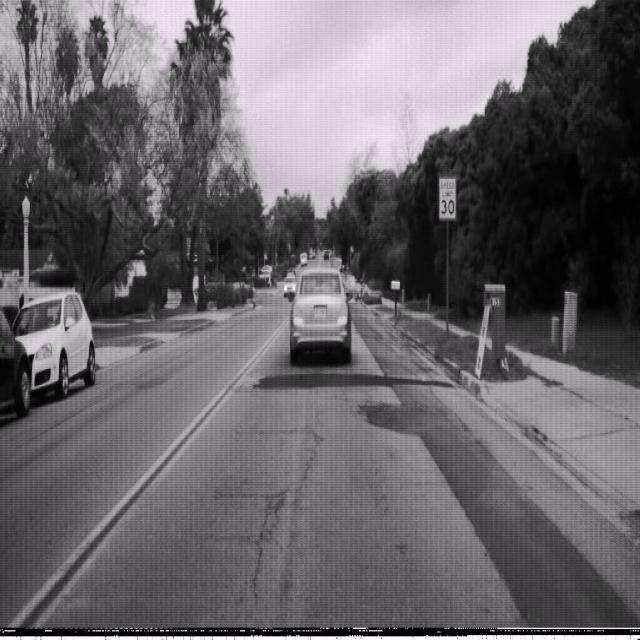speedLimit30: (439, 177, 456, 220)
